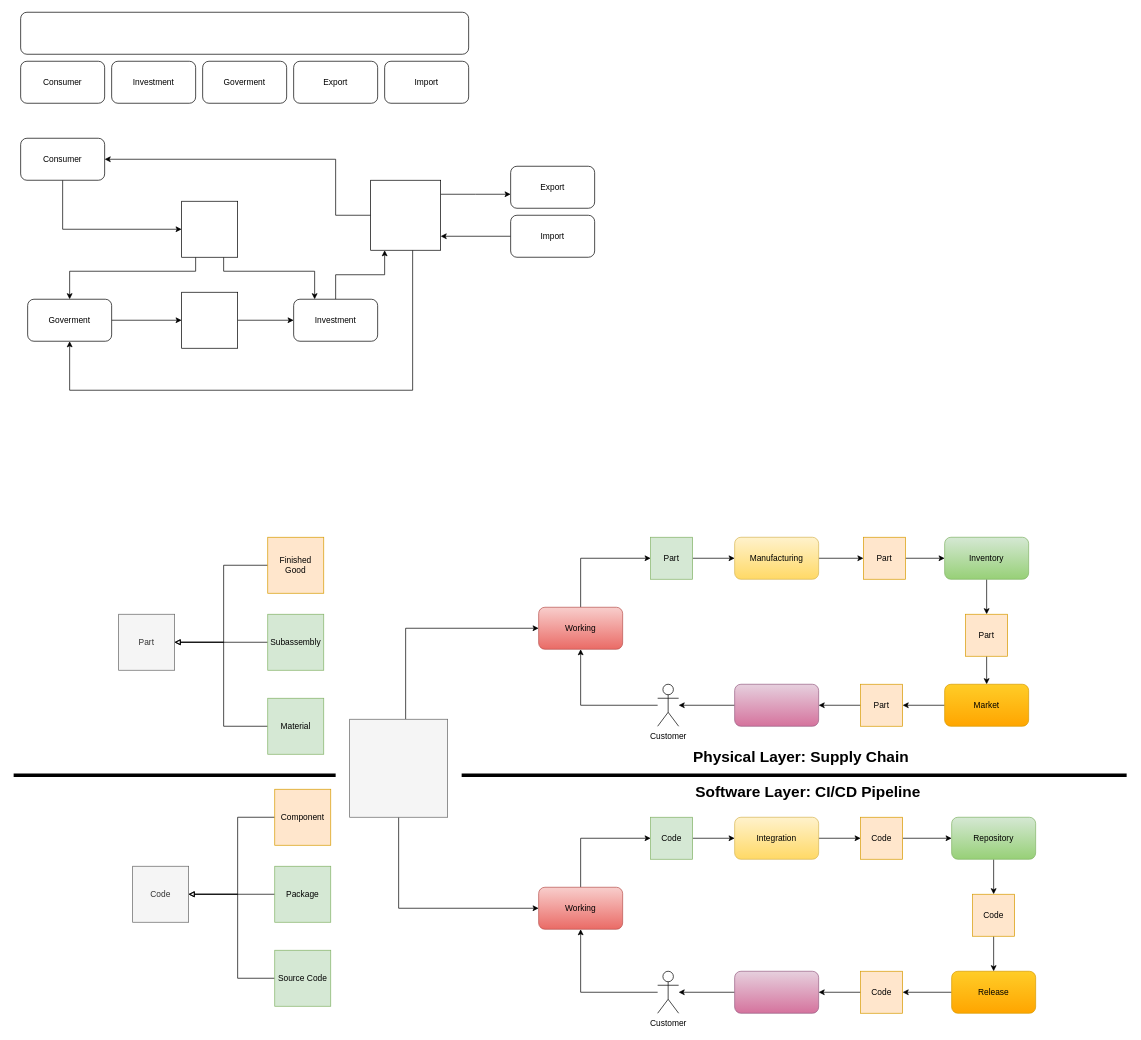
The diagram is 1141 pixels wide and 1040 high, and some of its shapes have lost their labels. The shapes that lost their labels are listed below. From the top down, each one's box as (x1, y1, x2, y2) in pixels, then its label:
(20, 12, 469, 54): GDP
(181, 201, 238, 257): Labor
(370, 180, 441, 250): Product
(181, 292, 238, 348): Financial
(734, 684, 819, 726): Ship
(349, 719, 448, 817): Environment
(734, 971, 819, 1013): Delivery
